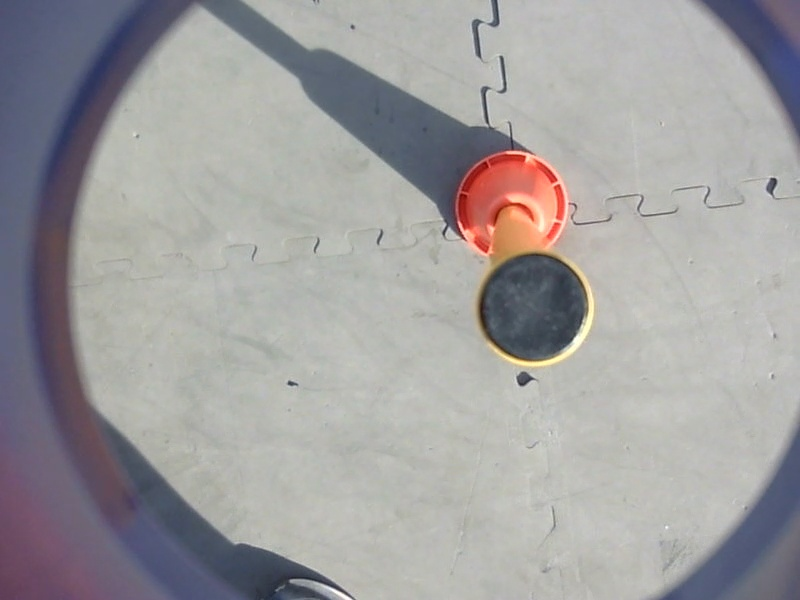tip: (471, 246, 598, 375)
